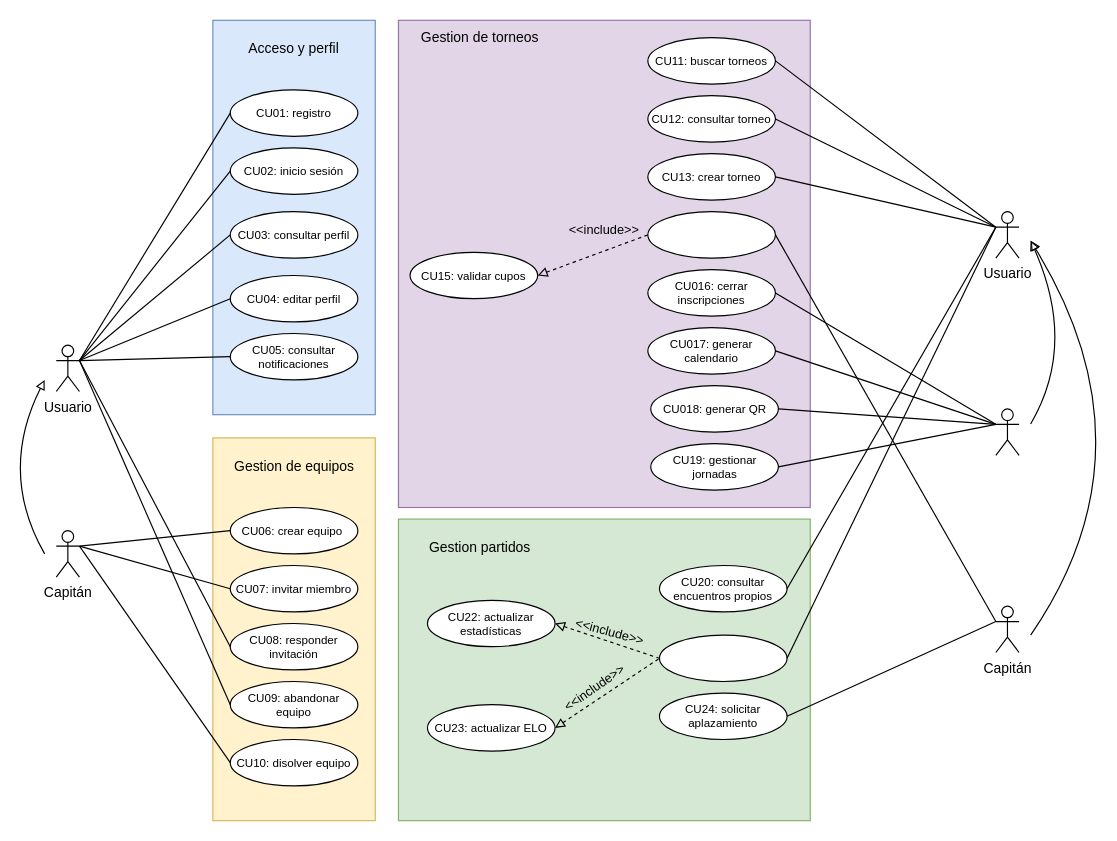
This 1117x841 diagram has some shape labels left out. The box of each missing label's shape, as (x1, y1, x2, y2) in pixels:
CU014: inscribir equipo: (647, 211, 775, 258)
CU21: registrar resultado: (658, 634, 787, 682)
Organizador: (995, 408, 1019, 455)
